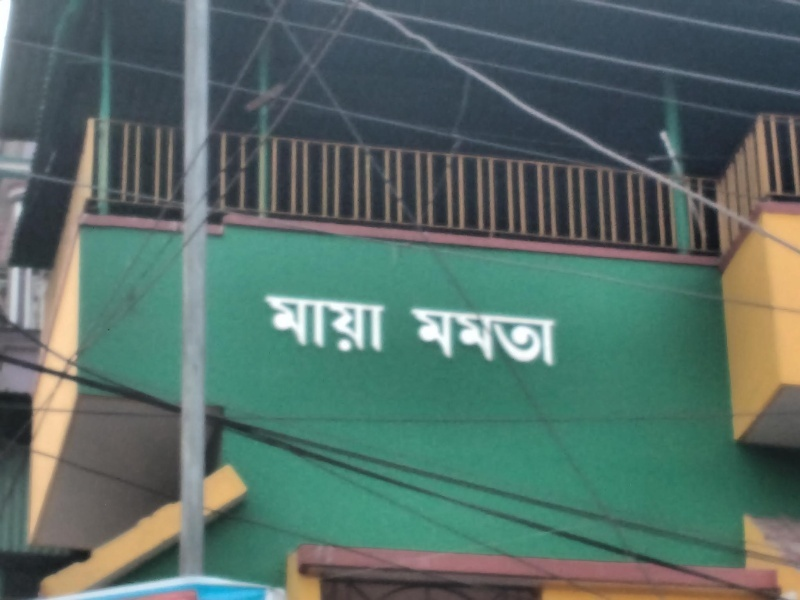text: (273, 290, 288, 356), (289, 290, 304, 356), (305, 290, 320, 356), (321, 290, 336, 356), (337, 290, 352, 356), (353, 290, 368, 356), (369, 290, 384, 356), (417, 307, 432, 369), (433, 307, 448, 369), (449, 307, 464, 369), (465, 307, 480, 369), (481, 307, 496, 369), (497, 307, 512, 369), (513, 307, 528, 369), (529, 307, 544, 369), (545, 307, 560, 369), (258, 290, 272, 356), (407, 307, 416, 369), (385, 290, 389, 356), (561, 307, 563, 369)
